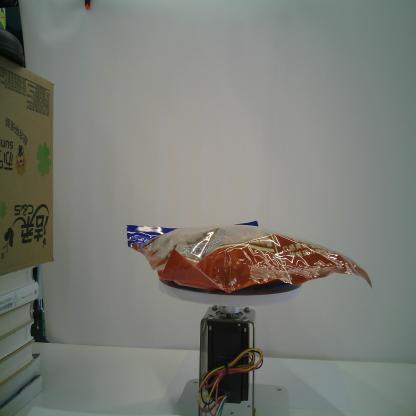Dried Food: (126, 220, 373, 295)
